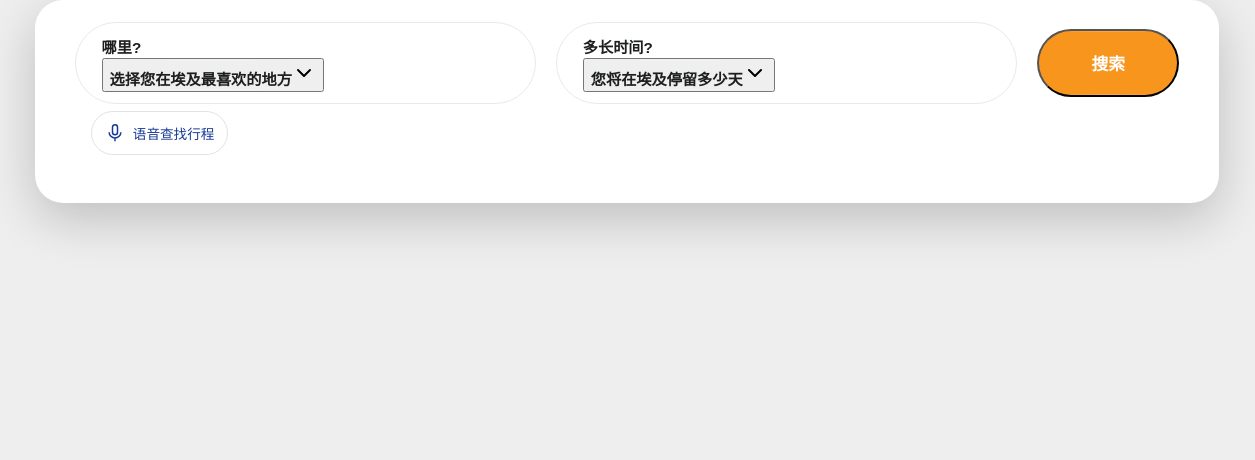
Smart Voice integrates with the existing Find Trip › Chinese bare destination uses the site speech locale and localized taxonomy label
Click the button "语音查找行程" at [160, 133], box [91,111,228,155]
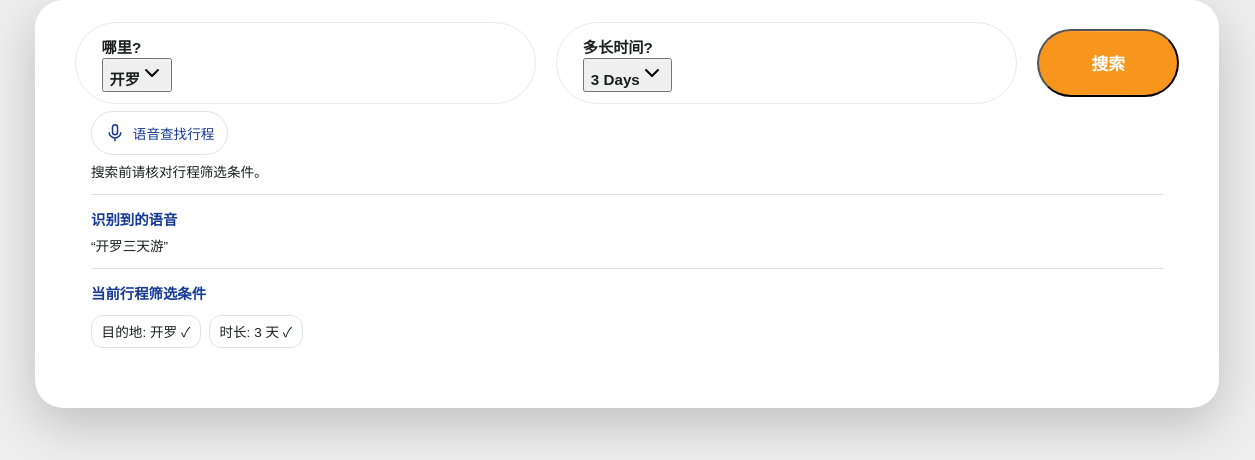
Result: the element "识别到的语音" is shown at [91,194,1163,255]
Result: the text "搜索前请核对行程筛选条件。" is shown at [91,165,268,180]
Result: the element "当前行程筛选条件" shows "目的地: 开罗" at [91,268,1163,354]
